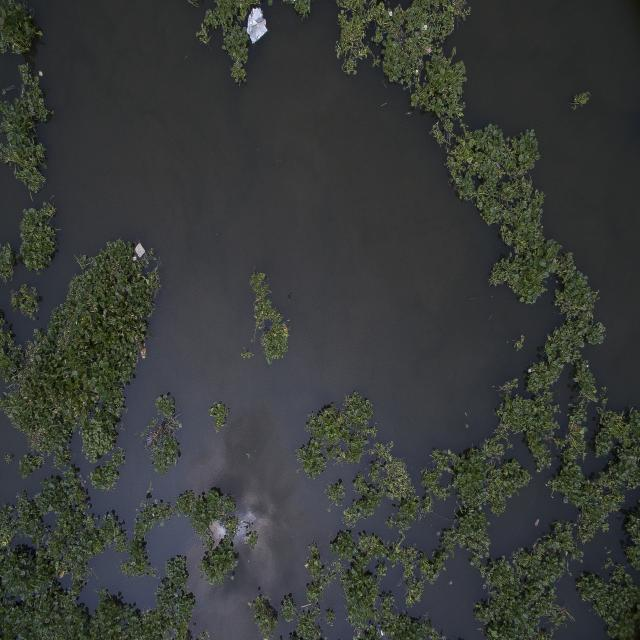debris: (246, 9, 270, 42), (211, 514, 228, 551), (134, 242, 146, 258), (263, 317, 274, 333), (37, 67, 45, 81), (386, 7, 396, 18), (526, 364, 534, 376), (378, 628, 388, 637), (426, 43, 433, 54), (414, 66, 421, 77), (423, 22, 429, 31)
plastic: (433, 527, 442, 539), (131, 252, 138, 264), (441, 562, 447, 574), (535, 517, 541, 528), (463, 421, 471, 429), (150, 511, 157, 518), (585, 364, 590, 369)
